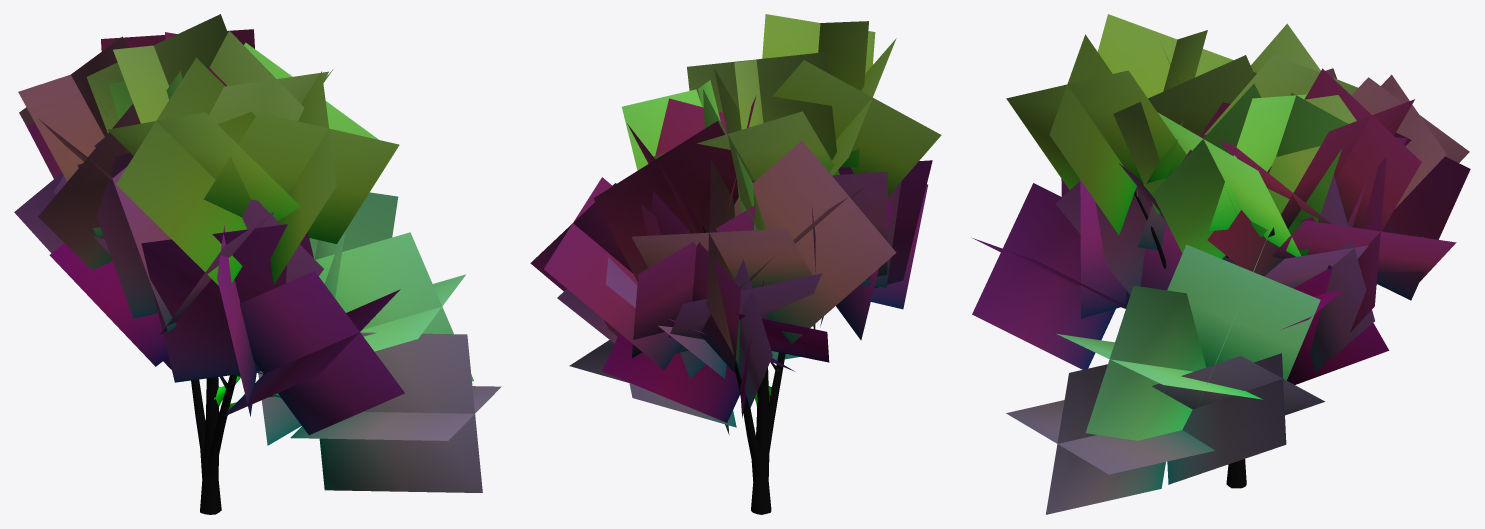
File: URP_P12_Tree_17_LOD_2.fbx
3 views of the same model, side by side, from view 1: azimuth 30°, elevation 25°; view 2: azimuth 150°, elevation 25°; view 3: azimuth 270°, elevation 25° (orthographic). The views are drawn at different scales.
Visible parts, largest first — view 1: Tree_17_LOD_2; view 2: Tree_17_LOD_2; view 3: Tree_17_LOD_2.
Boxes of the visible parts, x1,y1,x2,y2 form: Tree_17_LOD_2: [14, 14, 501, 514]; Tree_17_LOD_2: [530, 14, 941, 514]; Tree_17_LOD_2: [971, 14, 1470, 514].
Size of the model in its own units: 177 by 211 by 215.
